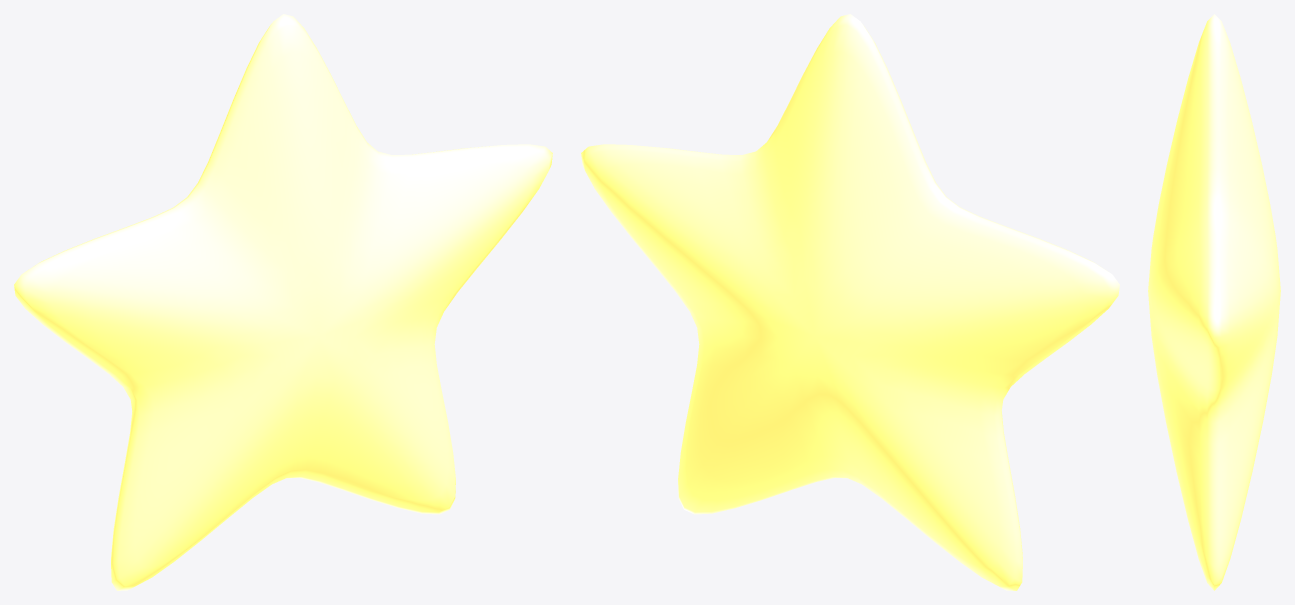
Rendered from star.gltf.
3 renders of one model, left to right at view 1: azimuth 30°, elevation 25°; view 2: azimuth 150°, elevation 25°; view 3: azimuth 270°, elevation 25°, orthographic. The views are drawn at different scales.
Visible parts, largest first — view 1: Circle.001; view 2: Circle.001; view 3: Circle.001.
Boxes of the visible parts, x1,y1,x2,y2 form: Circle.001: (14, 14, 552, 590); Circle.001: (581, 14, 1119, 590); Circle.001: (1148, 14, 1280, 590).
Size of the model in its own units: 1.44 by 1.38 by 0.3292.
